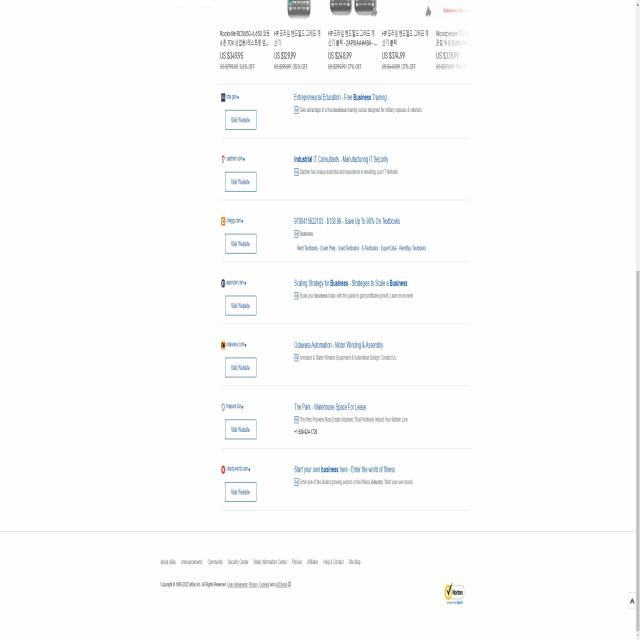tab-bar: (157, 556, 364, 570)
